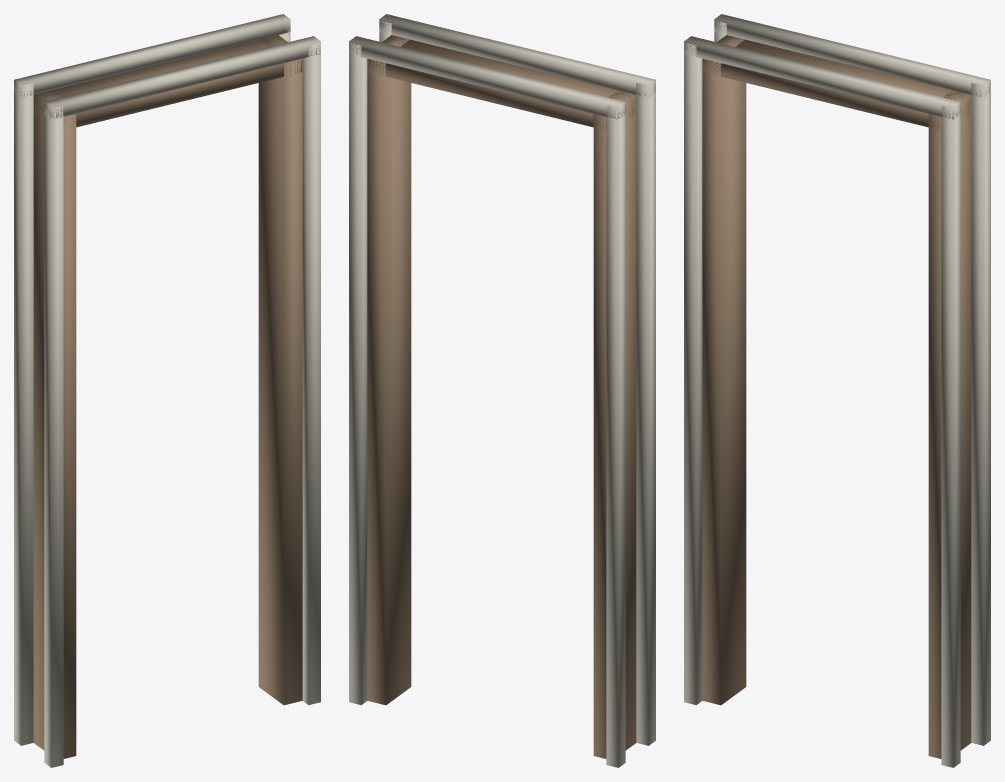
File: doorway_painted_trim_w76_h220_d16.glb
3 renders of one model, left to right at view 1: azimuth 30°, elevation 25°; view 2: azimuth 150°, elevation 25°; view 3: azimuth 330°, elevation 25°, orthographic.
Visible parts, largest first — view 1: world; view 2: world; view 3: world.
Boxes of the visible parts, x1,y1,x2,y2 form: world: [14, 14, 320, 767]; world: [349, 14, 655, 767]; world: [684, 14, 990, 767].
Bounding box in the file's own units: 0.9868 × 2.31 × 0.2365.
